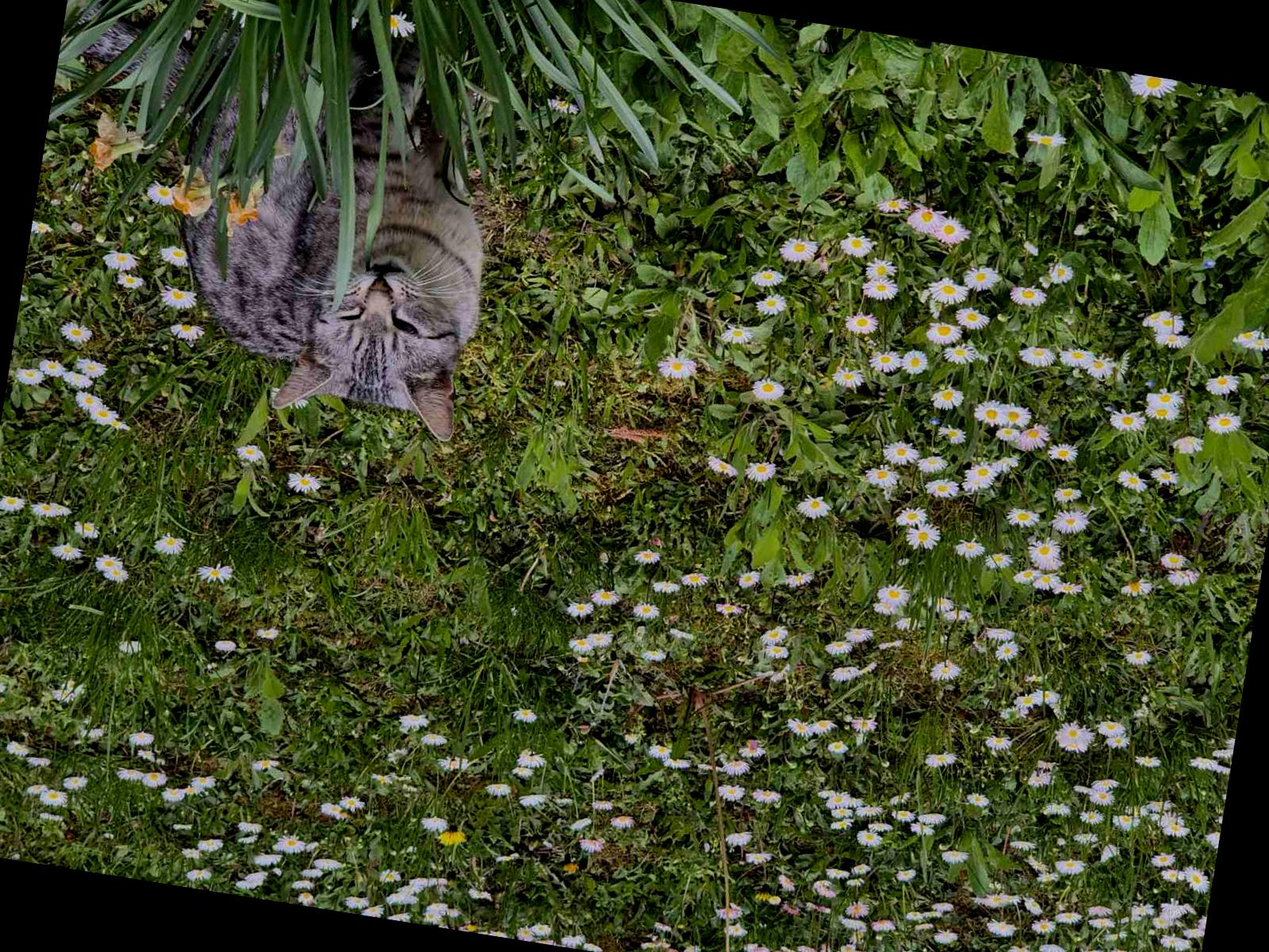macka: (9, 0, 519, 443)
